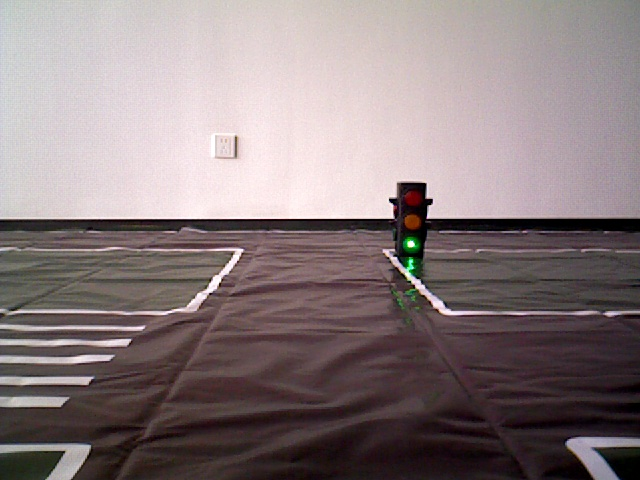green: (394, 181, 425, 251)
